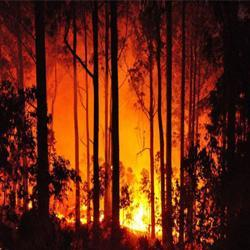fire: (126, 195, 148, 237)
